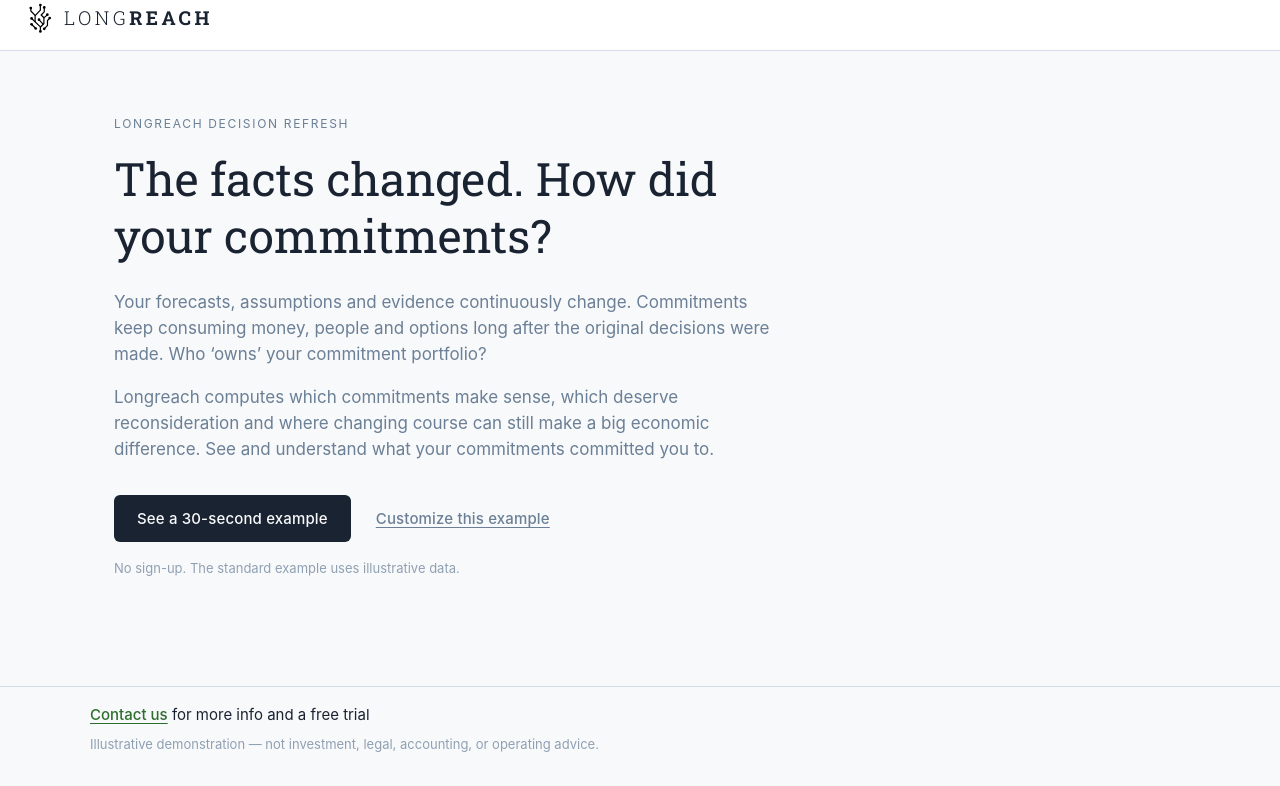
C1 intake › is reachable from the landing screen
Step 1. Click the button "Customize this example" → (463, 518), box top-left (375, 500), bottom-right (551, 537)
(page scrolled)
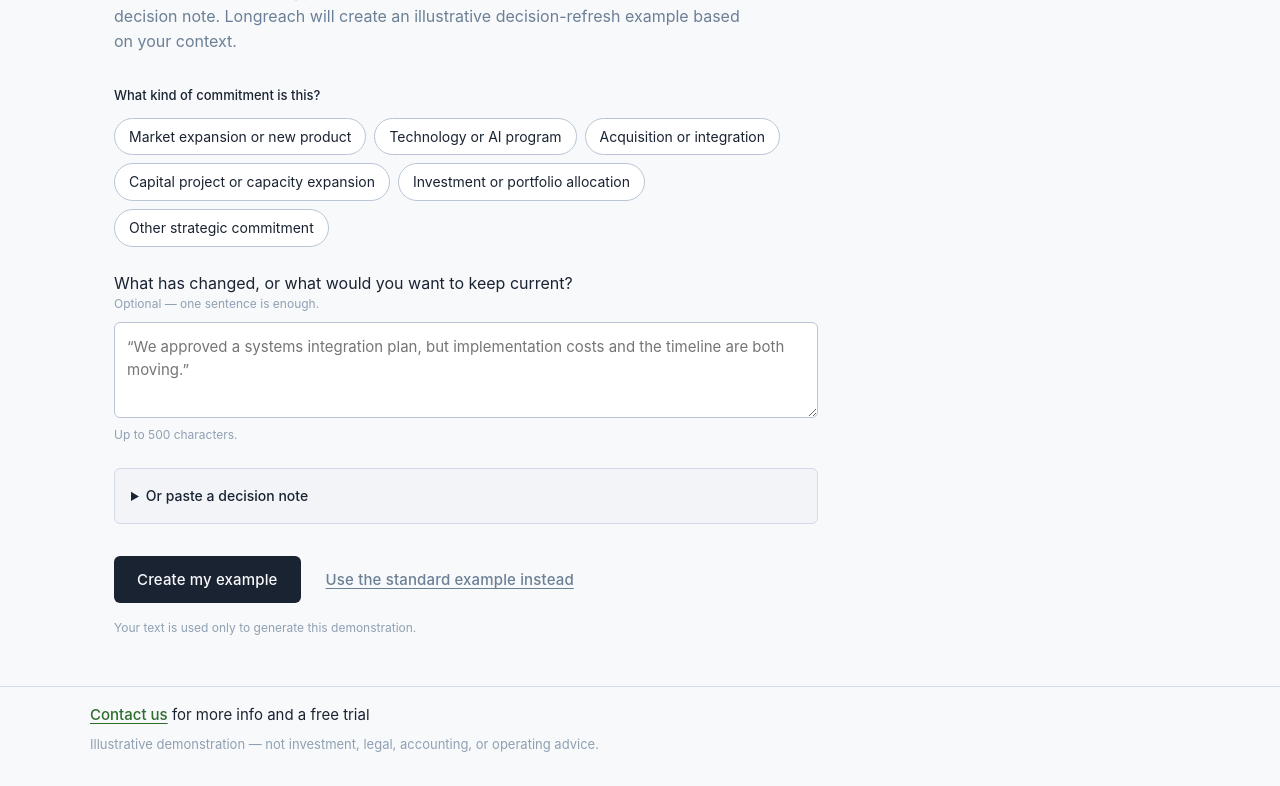
Result: the text "Your text is used only to generate this demonstration." is shown at top-left (114, 620), bottom-right (416, 635)
